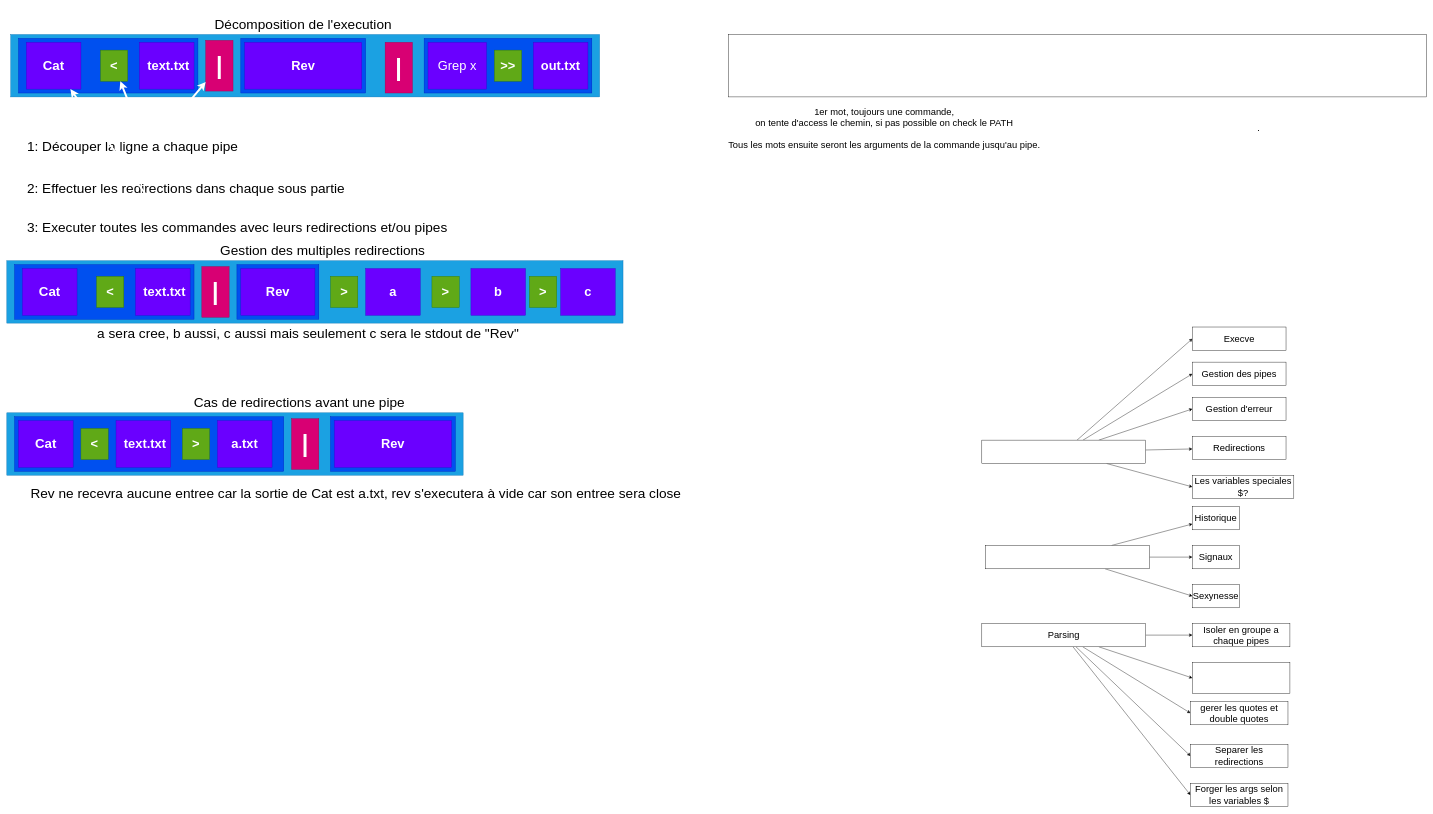
The diagram is 1433 pixels wide and 814 high, and some of its shapes have lost their labels. The shapes that lost their labels are listed below. From the top down, each one's box as (x1, y1, x2, y2) in pixels, then its label:
(728, 34, 1426, 97): minishell> echo "Coucou echo titi | " | rev
(981, 440, 1146, 464): Execution
(985, 545, 1150, 569): INPUT CLI
(1192, 662, 1290, 694): parser dans un char** la commande et ses args
